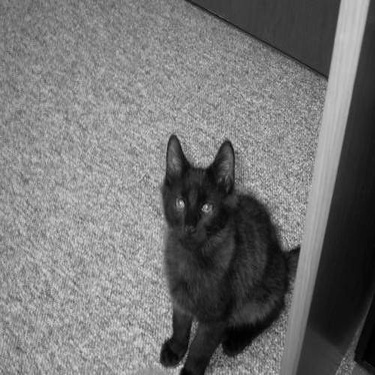cat: (159, 130, 302, 373)
